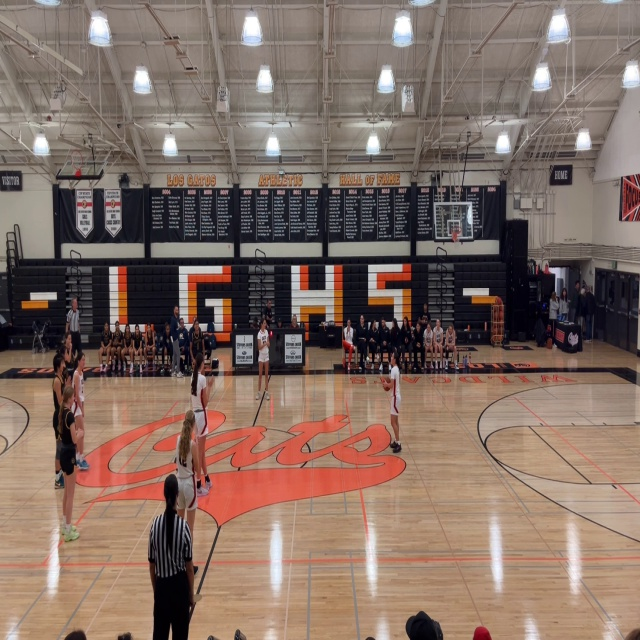Basketball: (381, 378, 391, 391)
